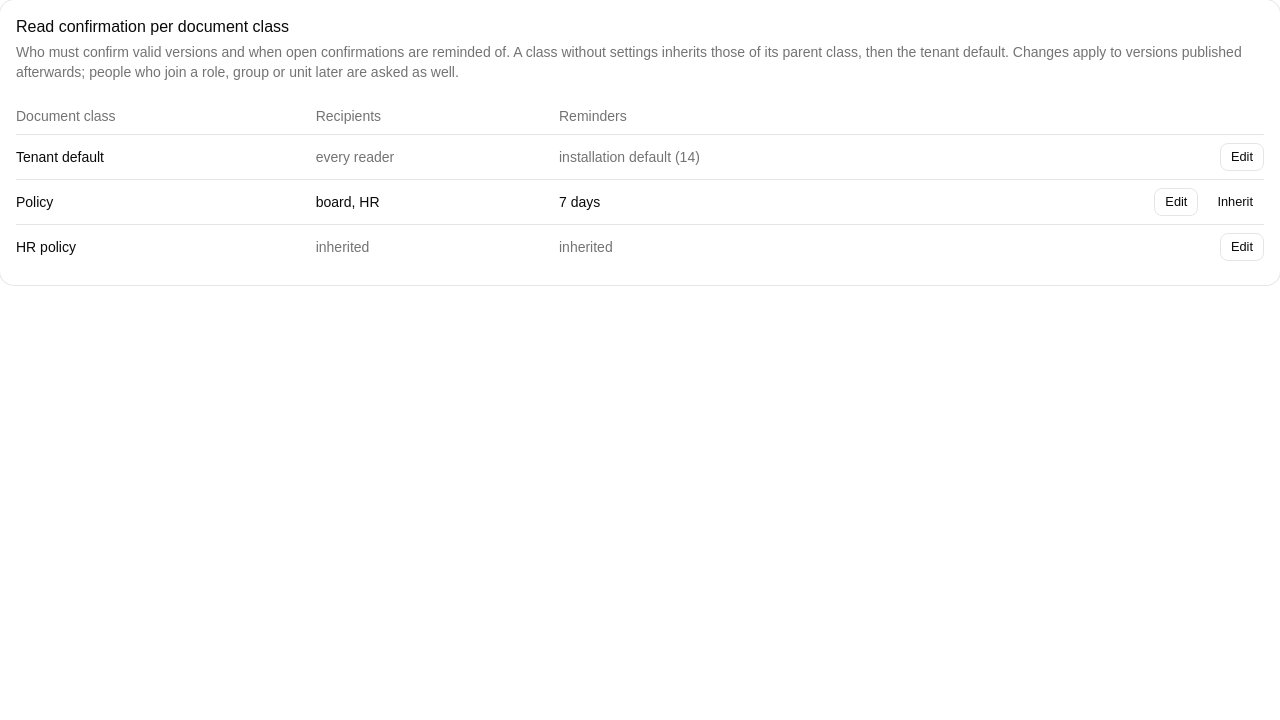
Acknowledgement settings per class (DMS-100) › shows the backend error when saving fails
Click the button with aria-label "Edit the settings of Policy": (1176, 202) [1154,188,1198,216]
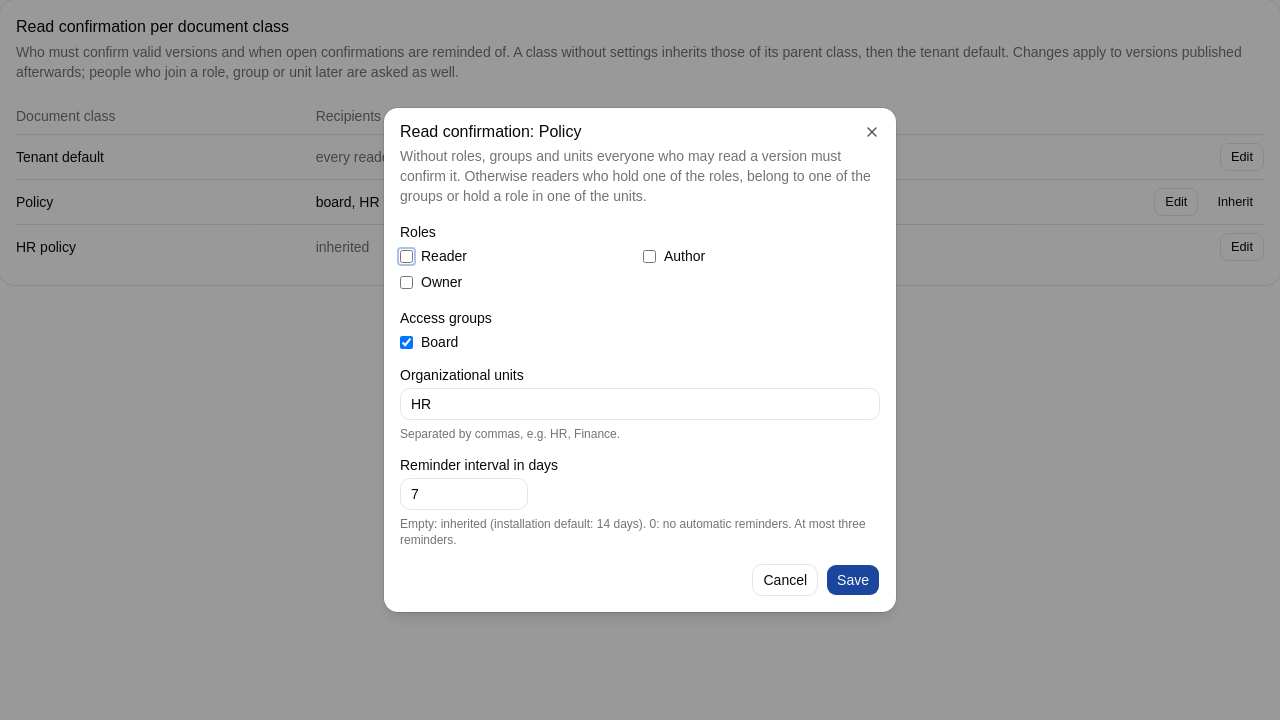
Click the button "Save": (853, 580) [826,564,880,596]
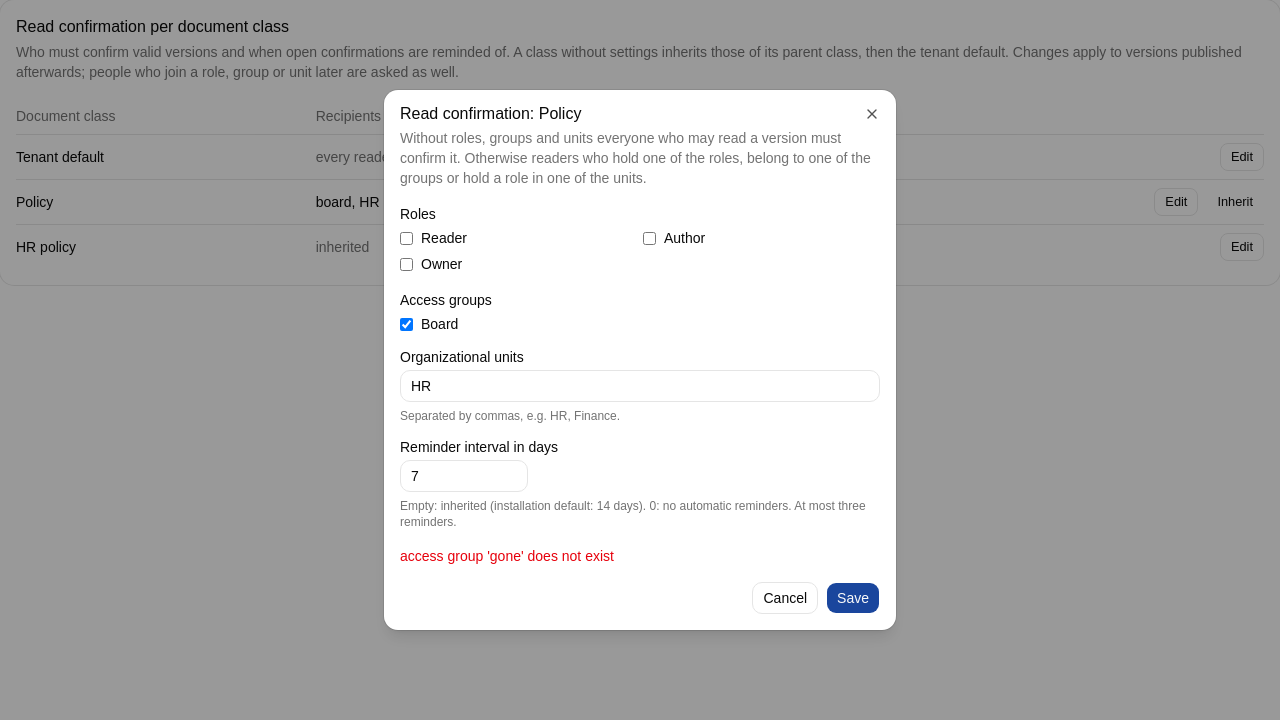
Now the message "access group 'gone' does not exist" is shown, box [400,548,614,564]
